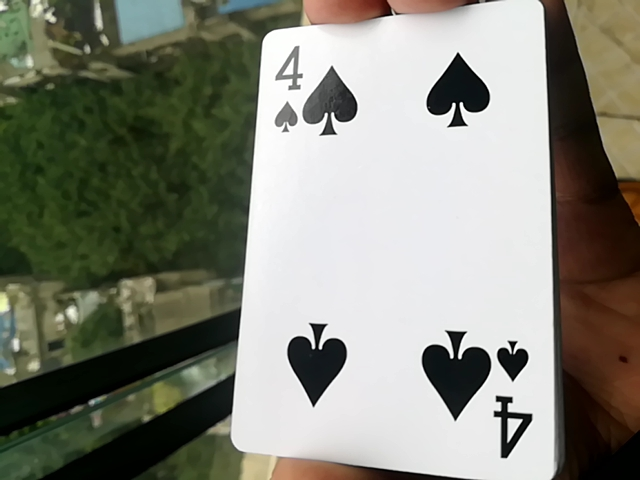ht 4: (227, 0, 543, 480)
